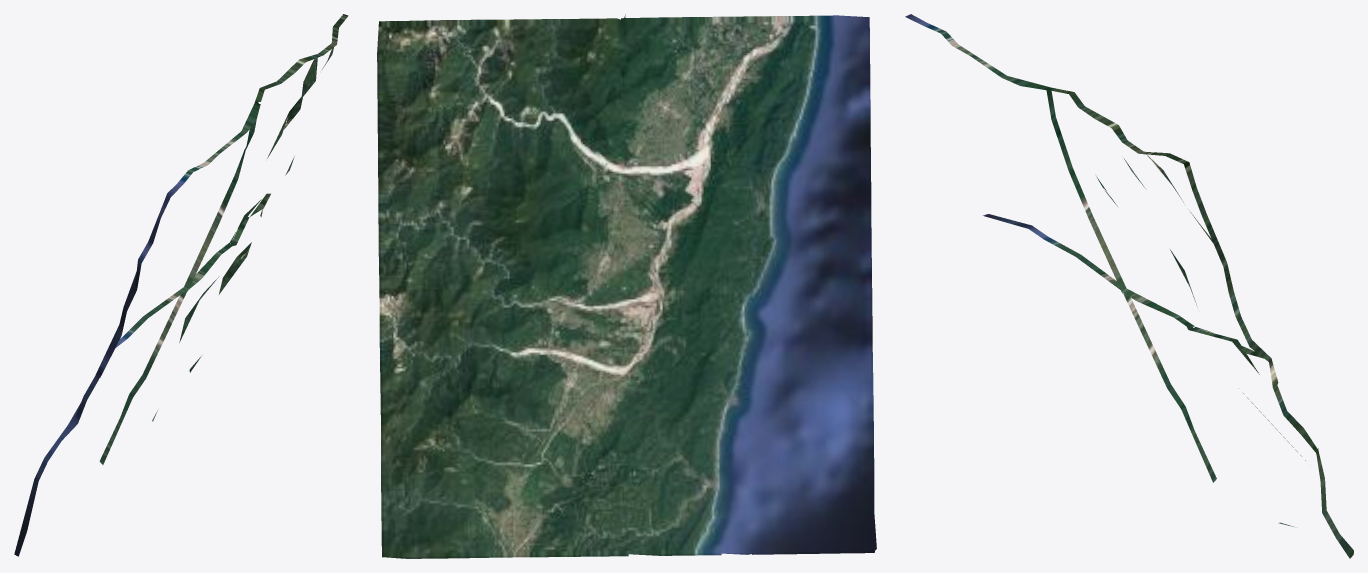
3 renders of one model, left to right at view 1: azimuth 30°, elevation 25°; view 2: azimuth 150°, elevation 25°; view 3: azimuth 270°, elevation 25°, orthographic. The views are drawn at different scales.
Bounding box in the file's own units: 37130 × 37994 × 34029.
Materials: 1 (1 with a texture image).
